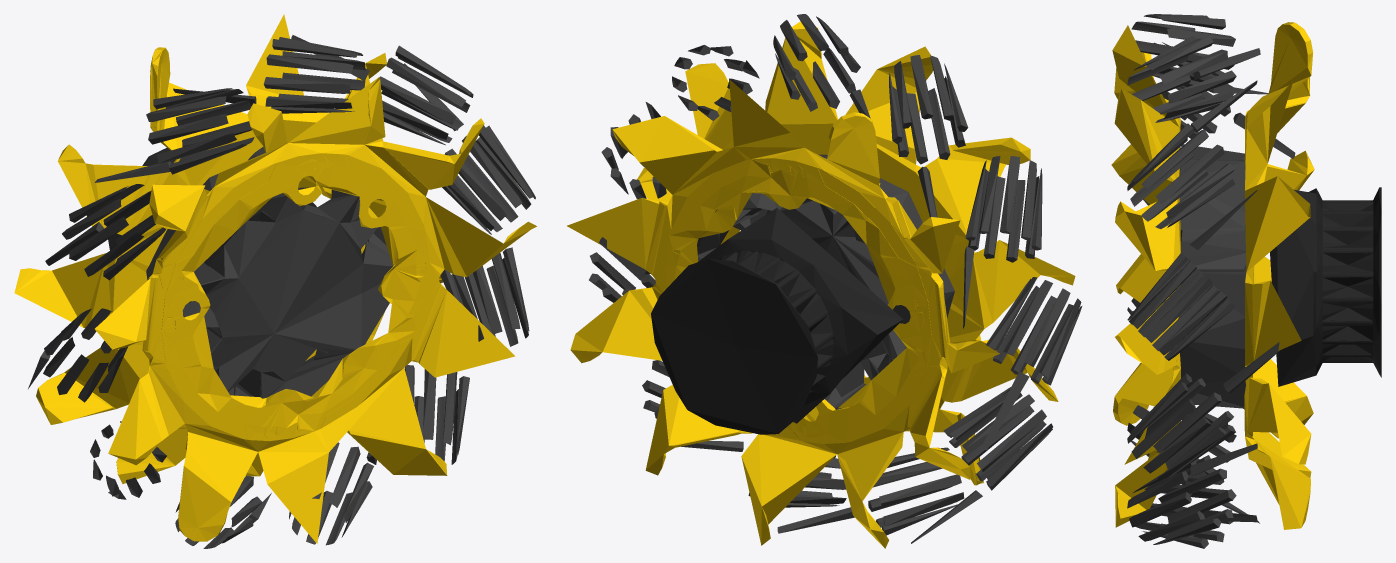
File: wheelBL.glb
The picture shows the model from 3 angles, left to right: view 1: azimuth 30°, elevation 25°; view 2: azimuth 150°, elevation 25°; view 3: azimuth 270°, elevation 25°; orthographic projection.
Visible parts, largest first — view 1: wheelBL_1, wheelBL_2; view 2: wheelBL_1, wheelBL_2, wheelBL_0; view 3: wheelBL_2, wheelBL_1, wheelBL_0.
Part boxes in pixels (<box>): wheelBL_1: <box>14,14,536,543</box>; wheelBL_2: <box>28,35,535,548</box>; wheelBL_1: <box>567,21,1075,548</box>; wheelBL_2: <box>589,14,1082,543</box>; wheelBL_0: <box>651,208,903,434</box>; wheelBL_2: <box>1127,14,1295,548</box>; wheelBL_1: <box>1111,22,1314,529</box>; wheelBL_0: <box>1270,187,1381,386</box>.
Bounding box in the file's own units: 3.97 × 3.98 × 2.
